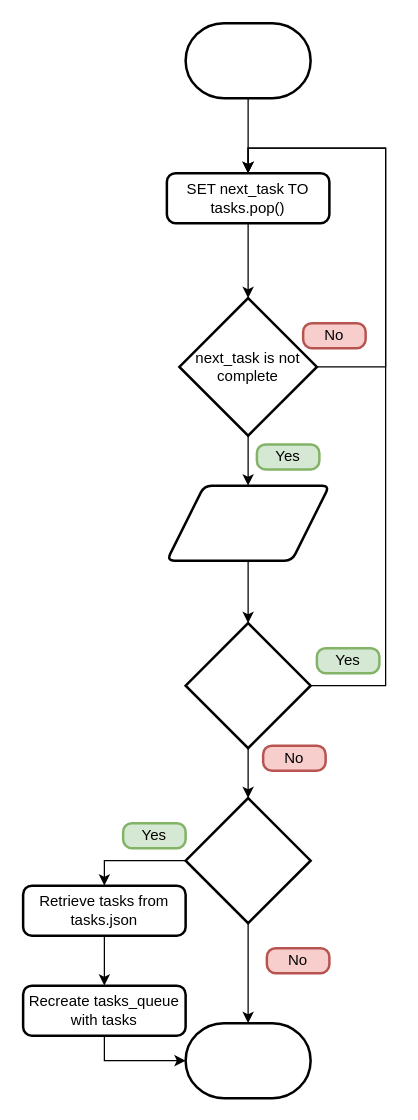
This 418x1120 diagram has some shape labels left out. Each missing label, with the centre of its shape:
"End" goes at (x=247, y=1060).
"Keep getting tasks?" goes at (x=247, y=685).
"OUTPUT next_task" goes at (x=247, y=522).
"Reset queue?" goes at (x=247, y=860).
"Start" goes at (x=247, y=60).
